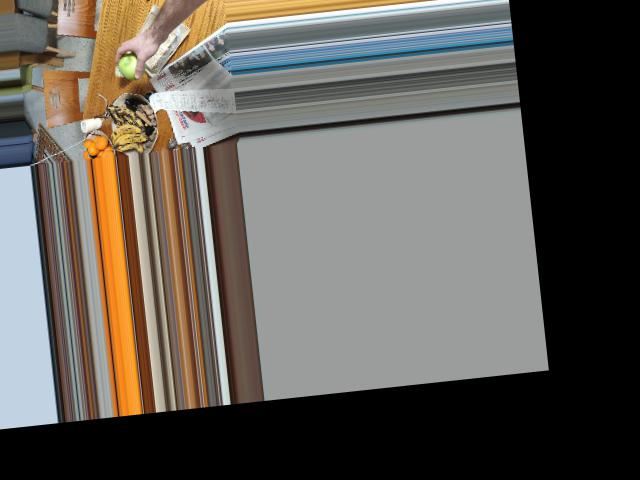apple: (117, 50, 146, 80)
